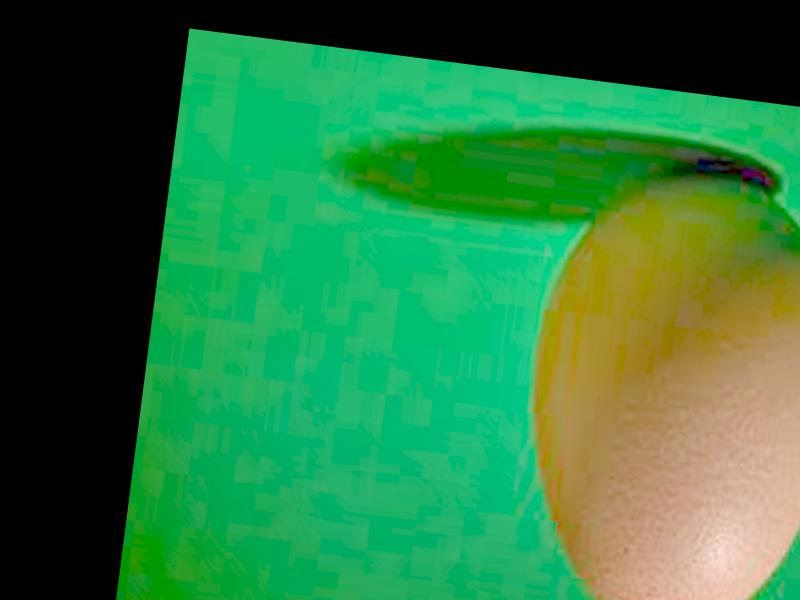Eggs: (504, 155, 800, 600)
